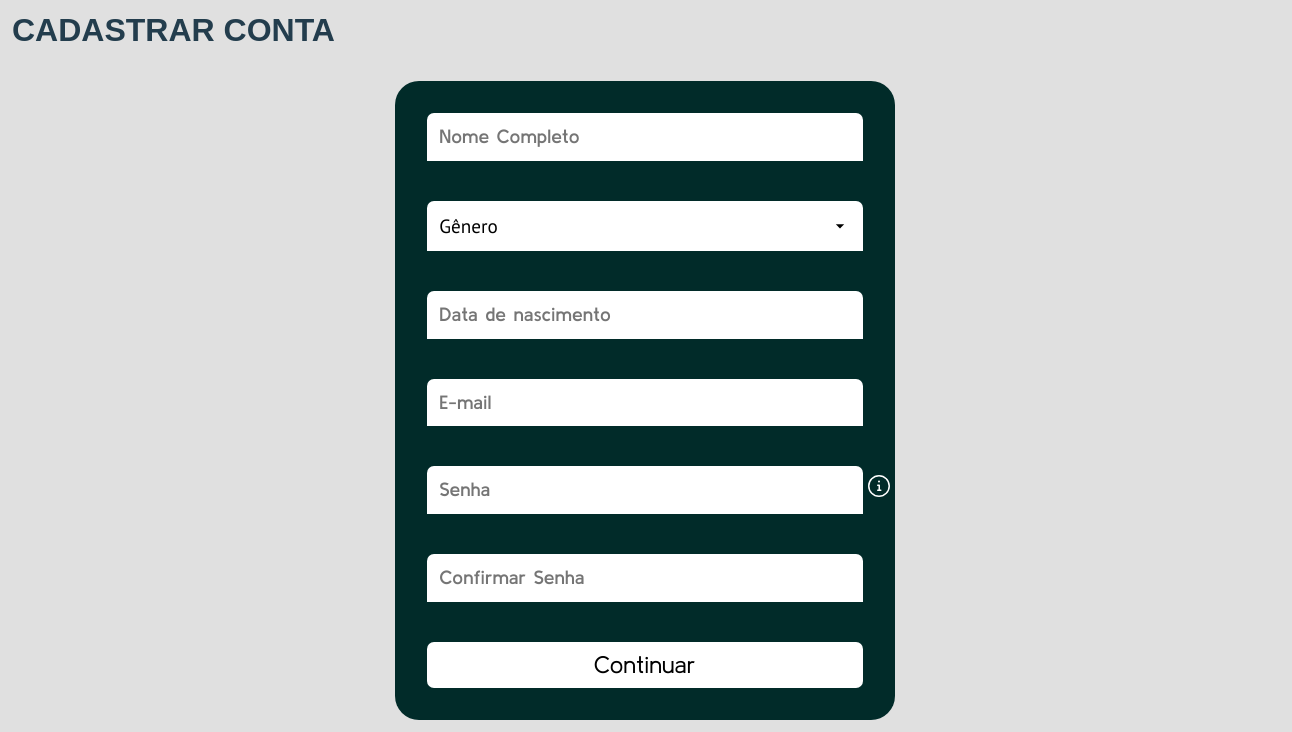
Componente de registro (Cadastro) › Deve formatar a data automaticamente adicionando as barras
In the field with placeholder "Data de nascimento": x=644, y=315 [426, 291, 862, 339], type "0"
Replace the text in the field with placeholder "Data de nascimento" with "05": x=644, y=315 [426, 291, 862, 339]
Replace the text in the field with placeholder "Data de nascimento" with "050": x=644, y=315 [426, 291, 862, 339]
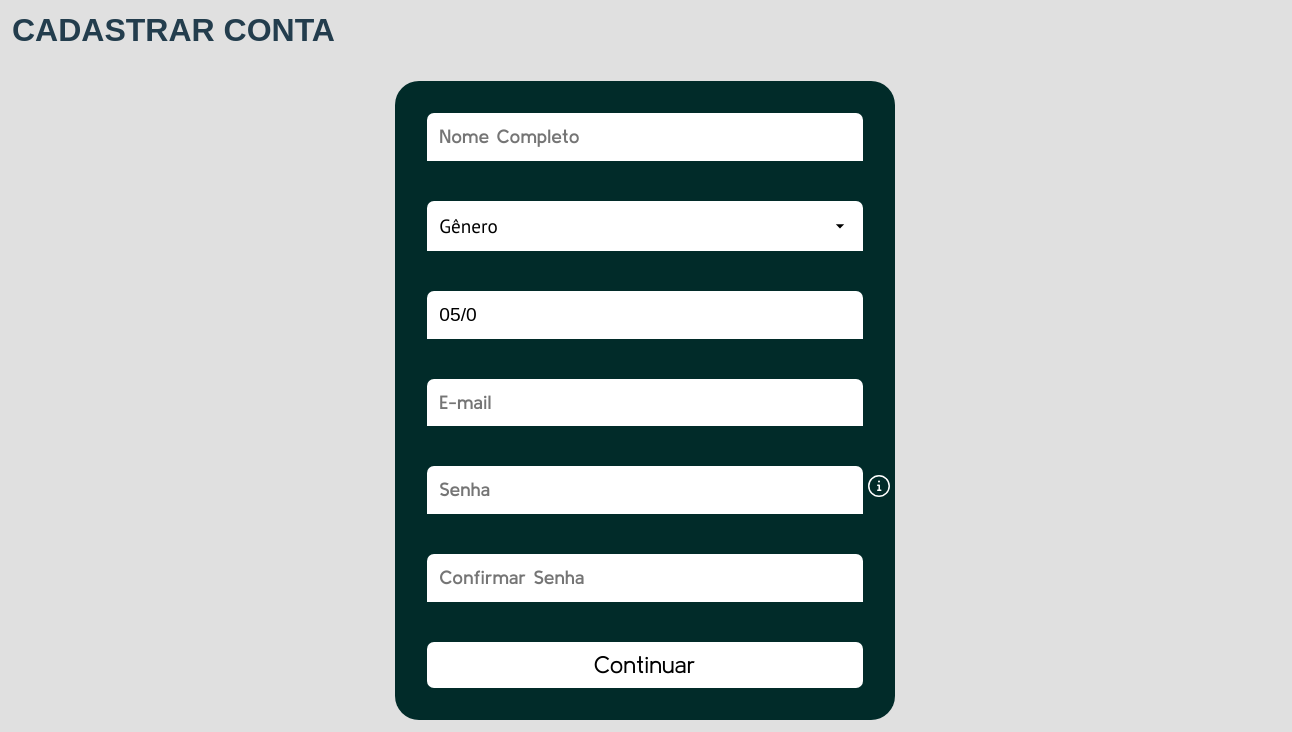
Replace the text in the field with placeholder "Data de nascimento" with "0503": x=644, y=315 [426, 291, 862, 339]
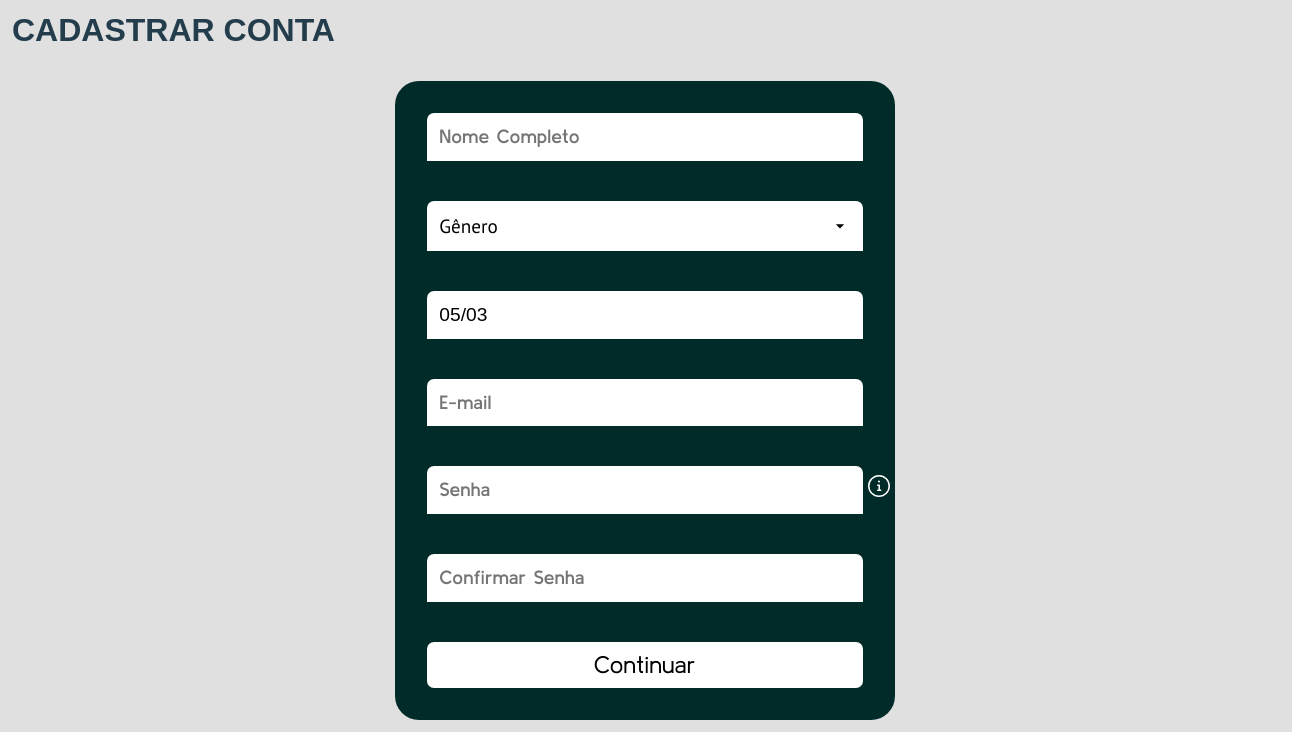
Replace the text in the field with placeholder "Data de nascimento" with "05032": x=644, y=315 [426, 291, 862, 339]
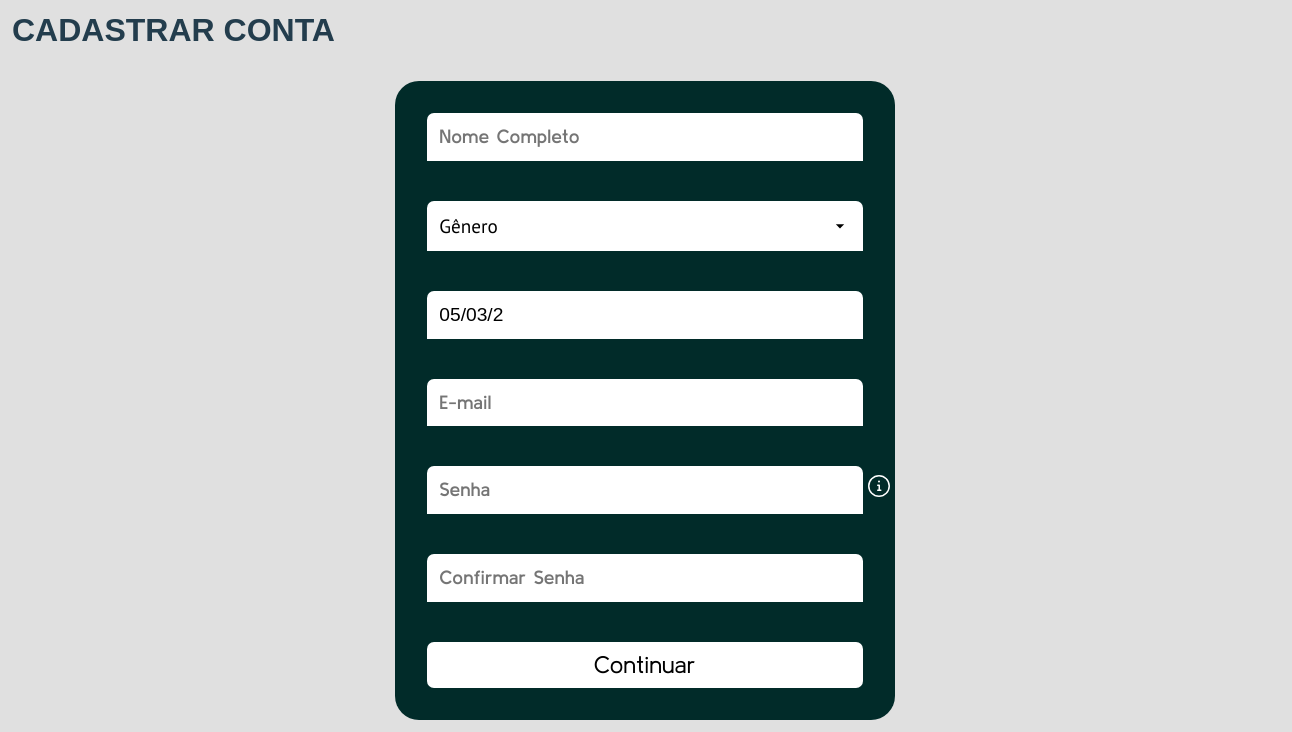
Replace the text in the field with placeholder "Data de nascimento" with "050320": x=644, y=315 [426, 291, 862, 339]
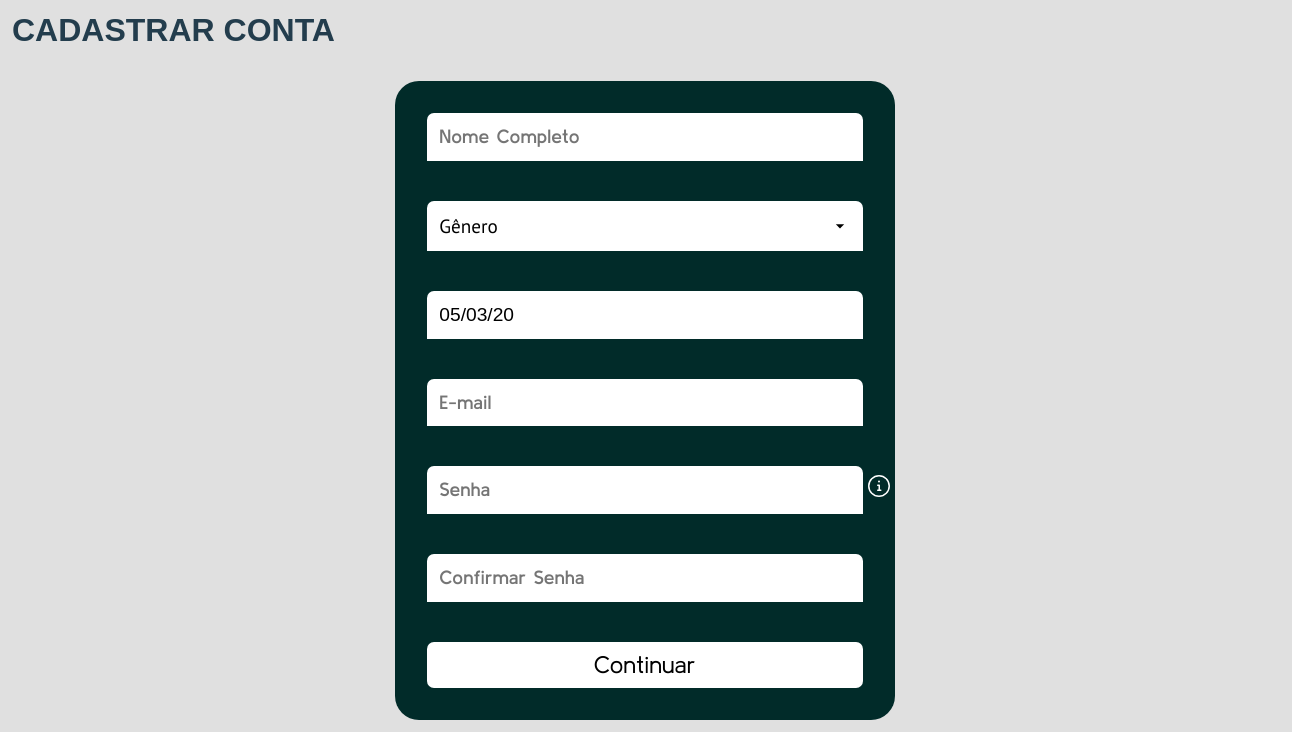
Replace the text in the field with placeholder "Data de nascimento" with "0503200": x=644, y=315 [426, 291, 862, 339]
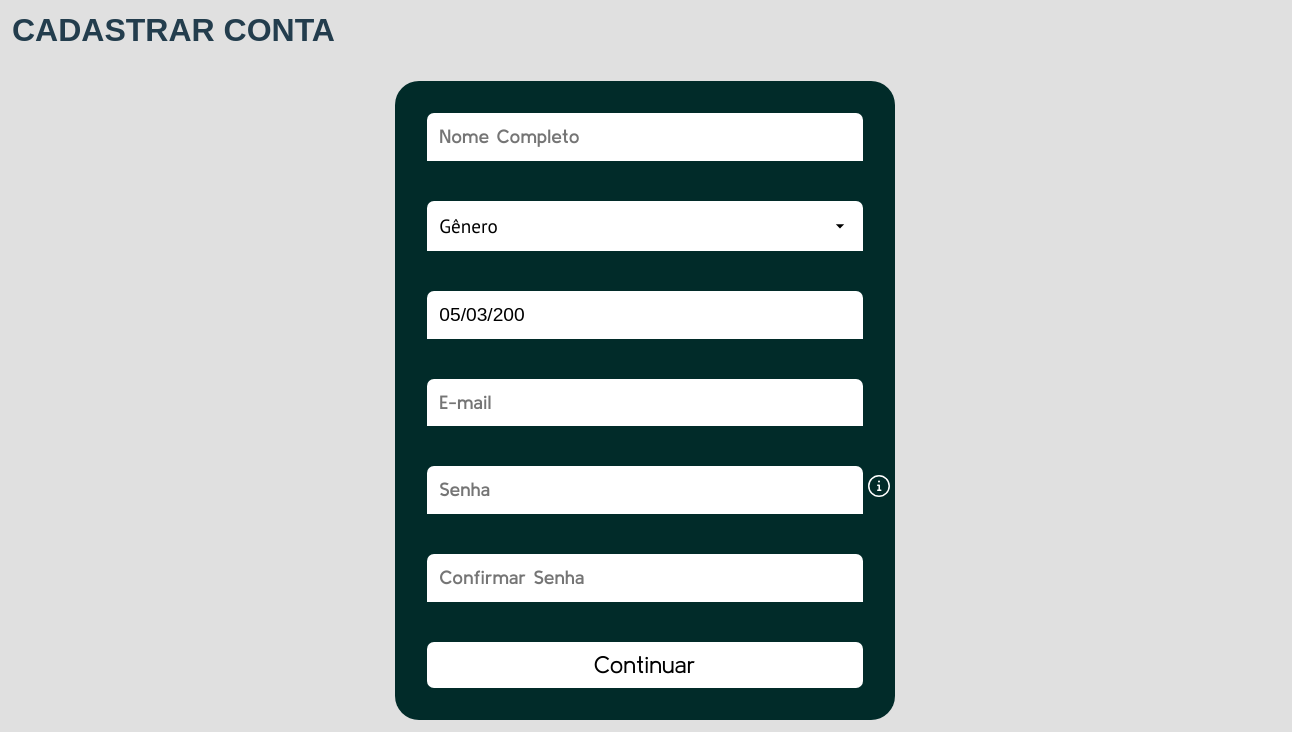
Replace the text in the field with placeholder "Data de nascimento" with "05032003": x=644, y=315 [426, 291, 862, 339]
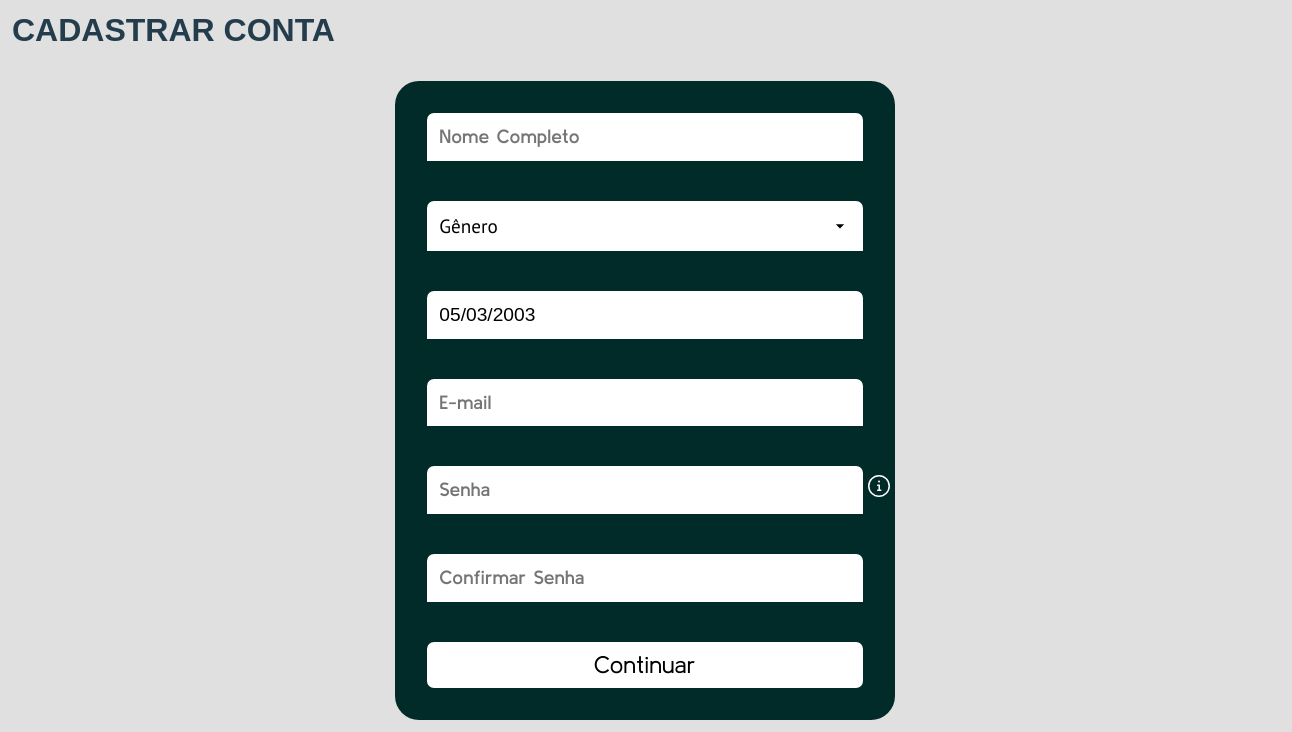
Expected: the field with placeholder "Data de nascimento" holds "05/03/2003", [426, 291, 862, 339]
